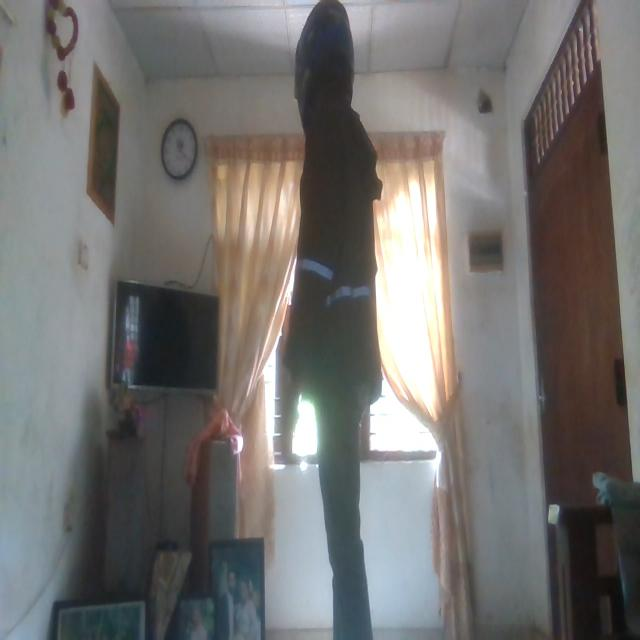Helmet_Wearer: (284, 5, 374, 112), (285, 1, 285, 2)
Jacket_Wearer: (284, 109, 394, 417)
Person: (284, 0, 407, 640)
